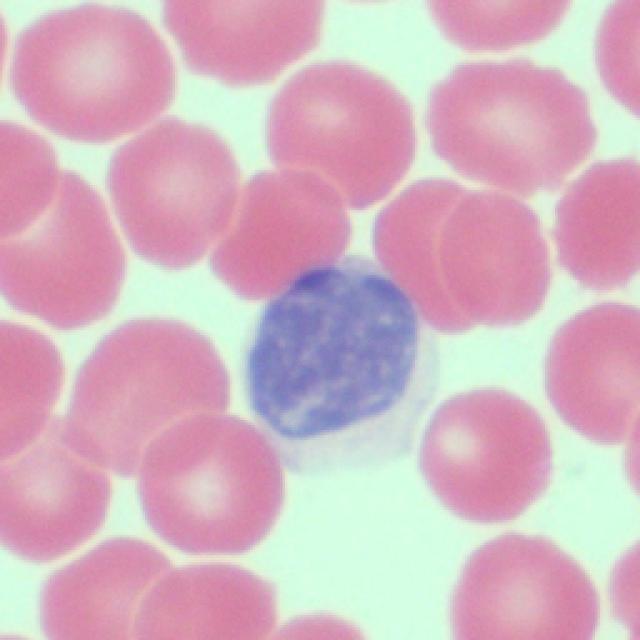RBC: (70, 317, 231, 474), (8, 5, 179, 142), (425, 56, 596, 192), (267, 59, 416, 206), (108, 116, 243, 271), (141, 414, 281, 556), (378, 178, 497, 336), (0, 171, 123, 323), (211, 168, 348, 304), (419, 387, 550, 525), (444, 531, 598, 640), (0, 418, 110, 560), (442, 193, 550, 331), (37, 538, 180, 640), (162, 0, 322, 88), (544, 302, 640, 447), (554, 157, 640, 299), (128, 562, 280, 640), (0, 323, 65, 459), (428, 0, 571, 52), (0, 122, 61, 242), (593, 1, 640, 125), (269, 607, 364, 640), (608, 545, 640, 637), (624, 415, 640, 493)
WBC: (245, 253, 442, 473)
